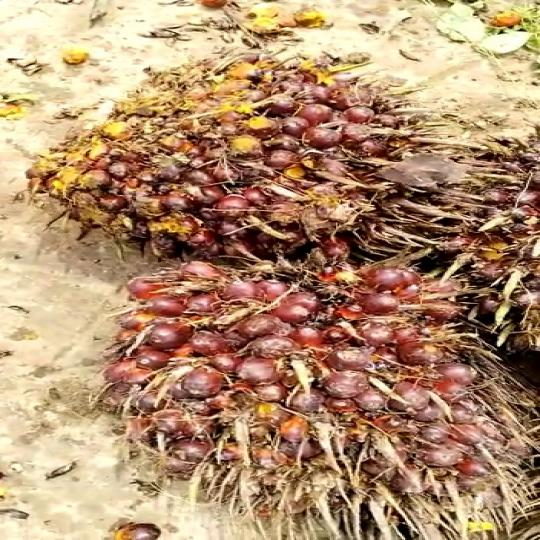masak: (100, 253, 538, 524), (38, 46, 458, 269)
